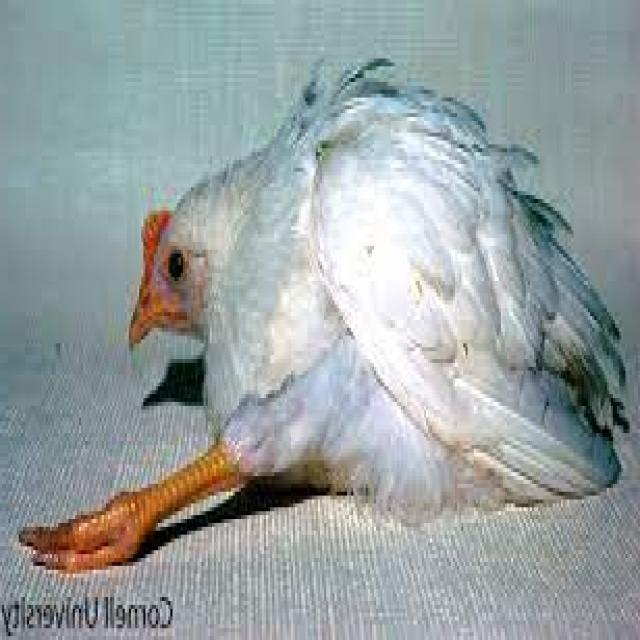AbNormal: (19, 70, 629, 568)
